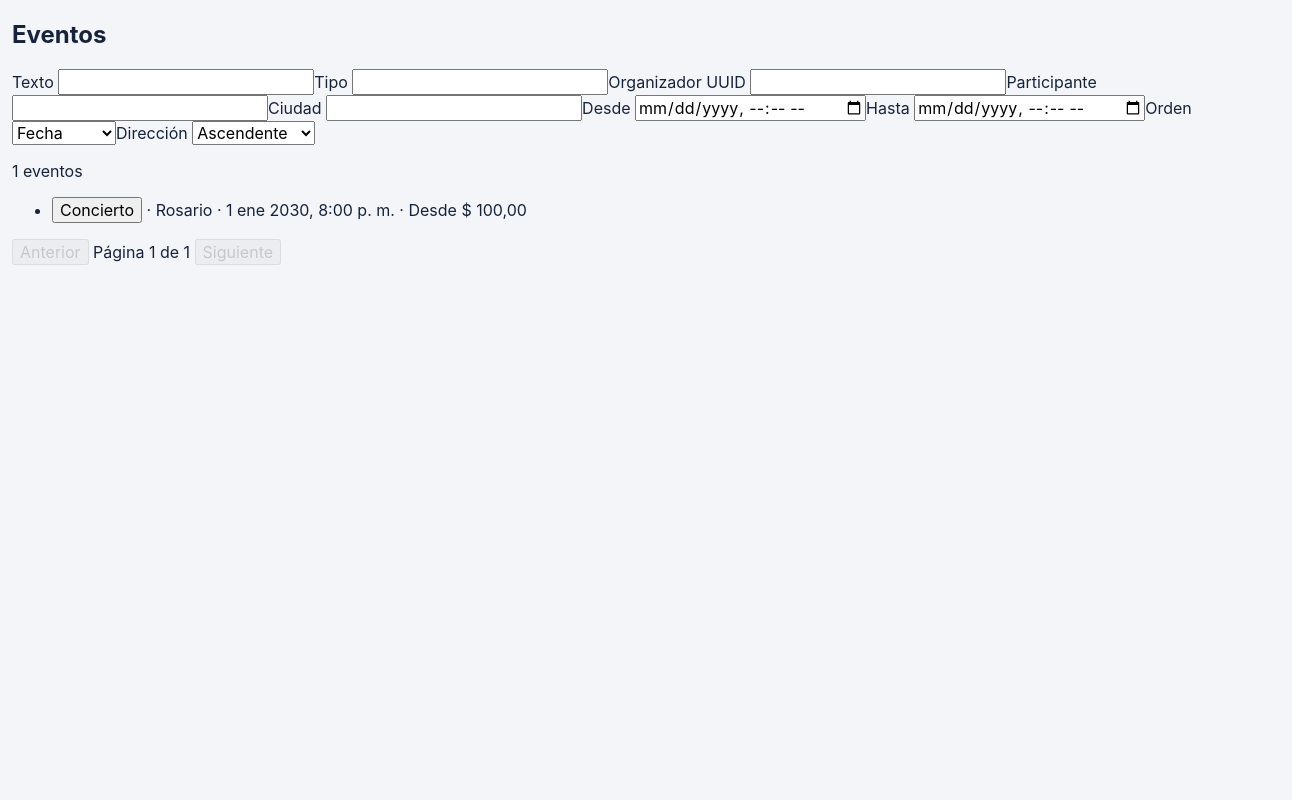
estados de compra y devolución › informa REJECTED con el orderId del problema 402 y libera la intención
What coordinates should you click on to do the following:
click the button "Concierto"
I would click on:
 (97, 210)
Its box is 52,197 -> 142,223.
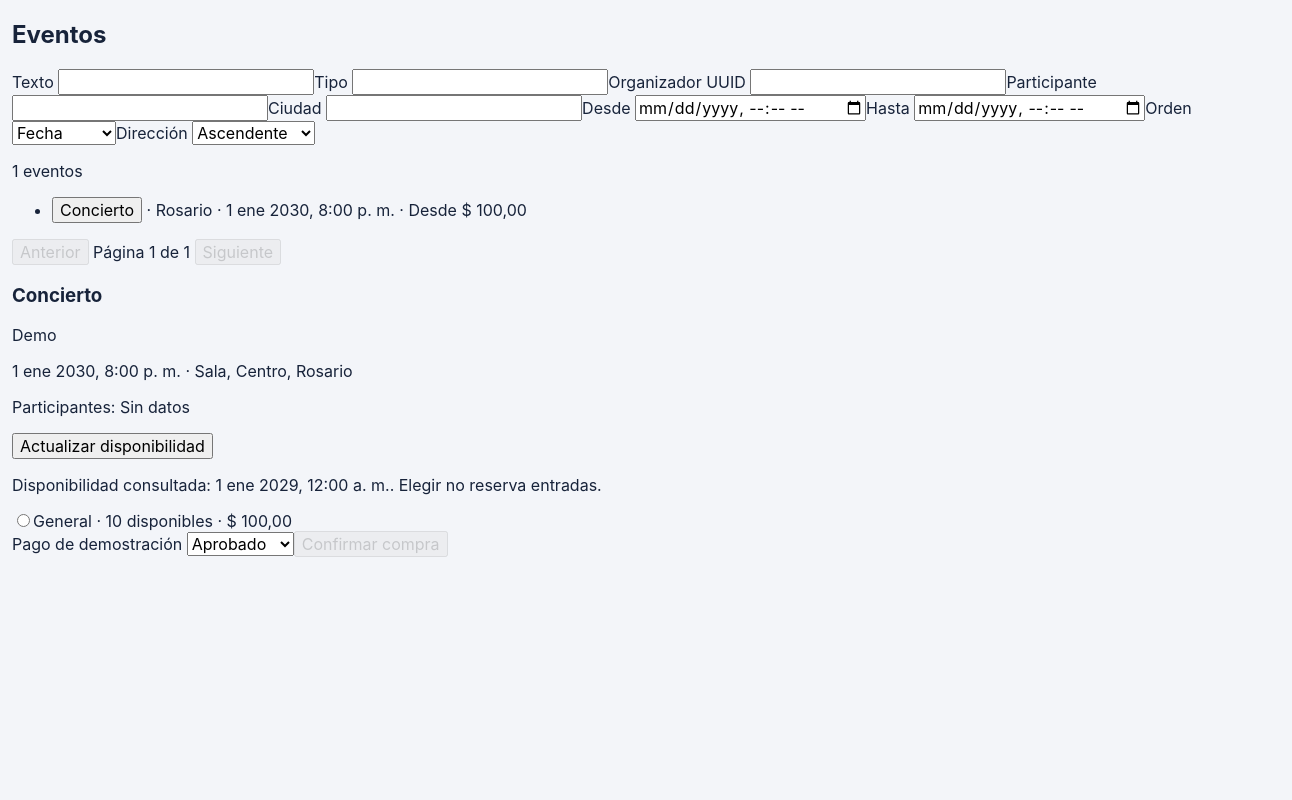
What coordinates should you click on to do the following:
click the radio button labelled "General · 10 disponibles · $ 100,00"
I would click on:
 (24, 521)
Its box is 17,514 -> 30,527.
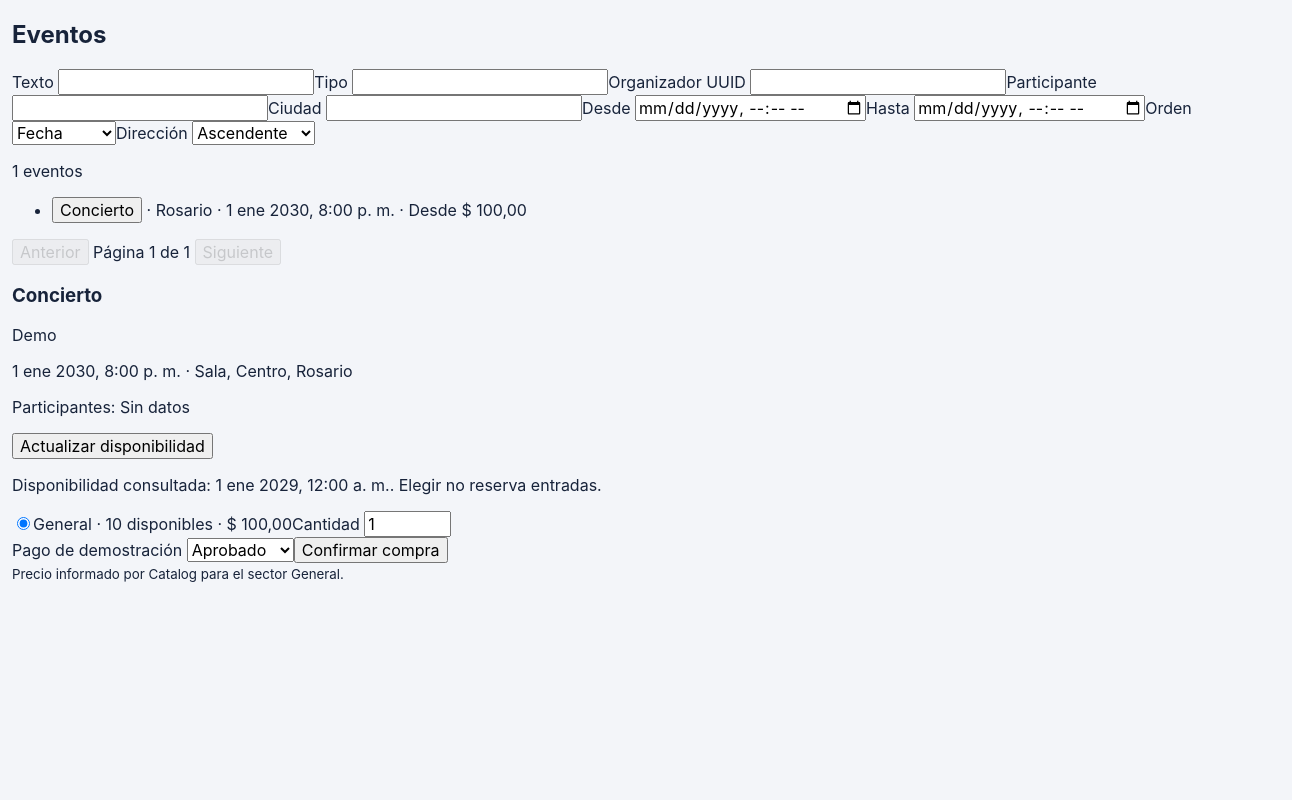
What coordinates should you click on to do the following:
click the button "Confirmar compra"
I would click on:
 (371, 550)
Its box is 294,537 -> 448,563.
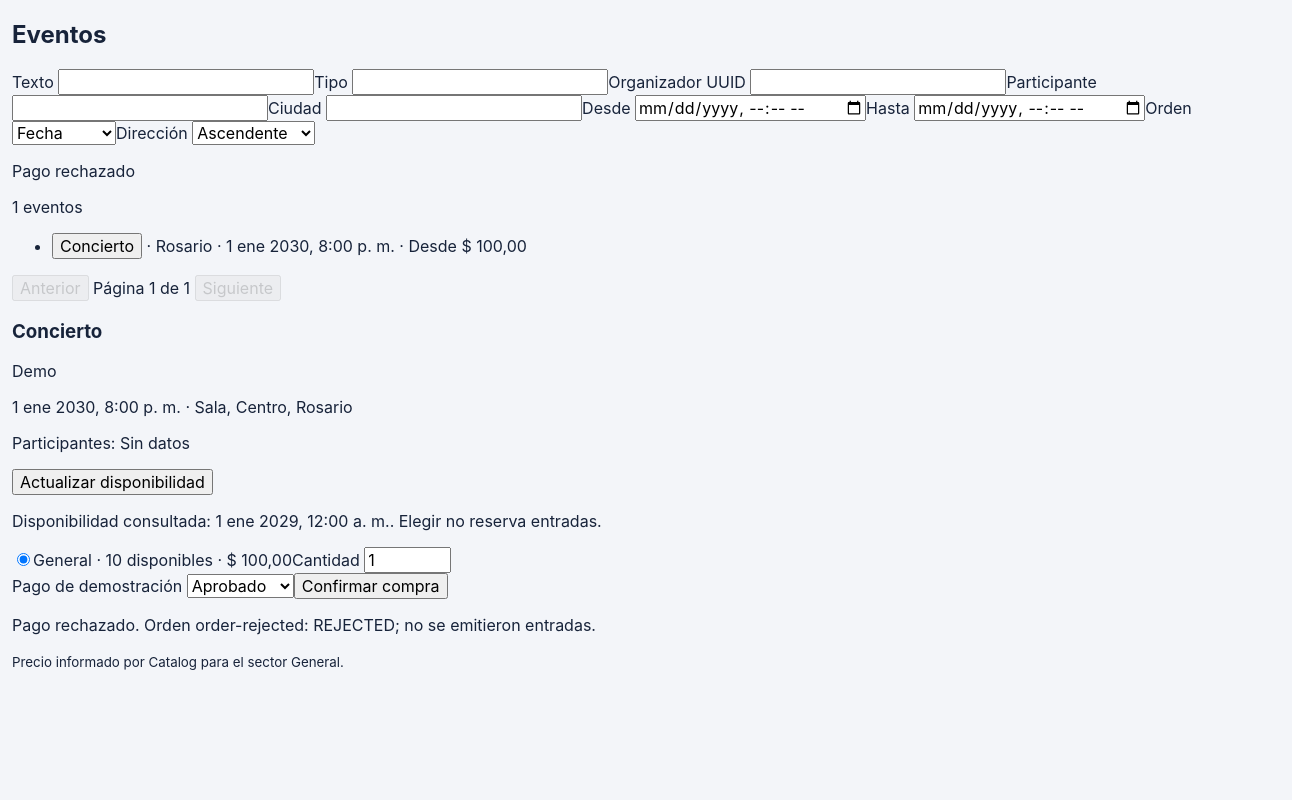
Result: the text "Pago rechazado. Orden order-rejected: REJECTED; no se emitieron entradas." is shown at 12,615 -> 596,635
